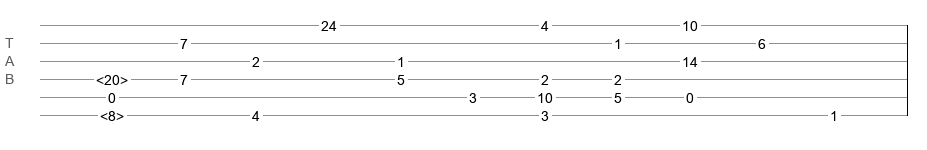0: (108, 90, 116, 100), (686, 90, 694, 100)
1: (397, 54, 405, 64), (614, 36, 622, 46), (830, 108, 838, 118)
10: (537, 90, 553, 100), (682, 18, 698, 28)
14: (682, 54, 698, 64)
2: (252, 54, 260, 64), (541, 72, 549, 82), (614, 72, 622, 82)
24: (321, 18, 337, 28)
3: (469, 90, 477, 100), (541, 108, 549, 118)
4: (252, 108, 260, 118), (541, 18, 549, 28)
5: (397, 72, 405, 82), (614, 90, 622, 100)
6: (758, 36, 766, 46)
7: (180, 36, 188, 46), (180, 72, 188, 82)
harmonic: (96, 72, 128, 82), (100, 108, 124, 118)
